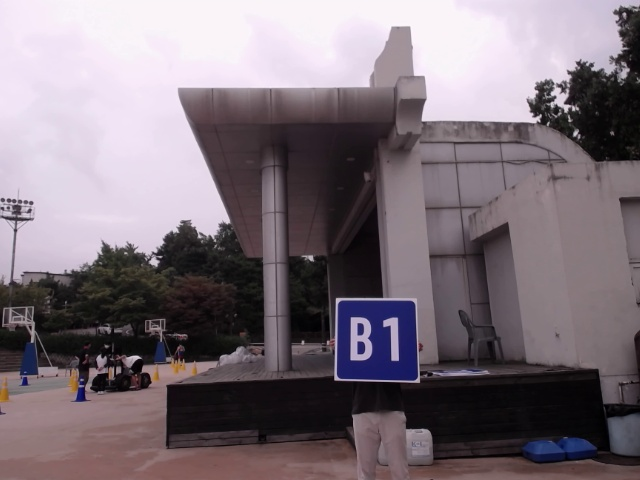delivery_b1: (335, 298, 419, 382)
